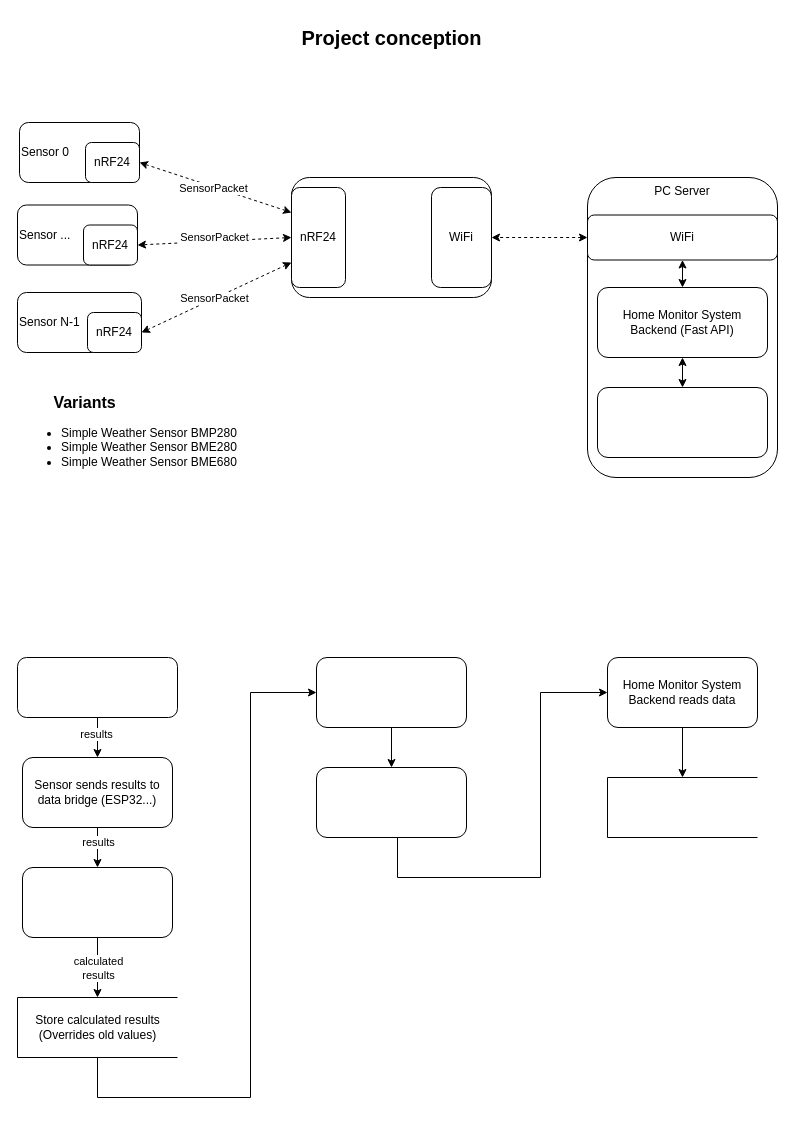
This 795x1123 diagram has some shape labels left out. The shapes that lost their labels are listed below. From the top down, each one's box as (x1, y1, x2, y2) in pixels, then its label:
(290, 176, 492, 298): Bridge ESP32C3
(596, 386, 768, 458): Database (MySQL)
(16, 656, 178, 718): Sensor do envirioment measurement
(316, 656, 466, 728): Data bridge read calculated results
(316, 766, 466, 838): Data bridge send calculated results to server
(606, 776, 758, 838): Store data in Database
(22, 866, 172, 938): Data bridge calculate data
